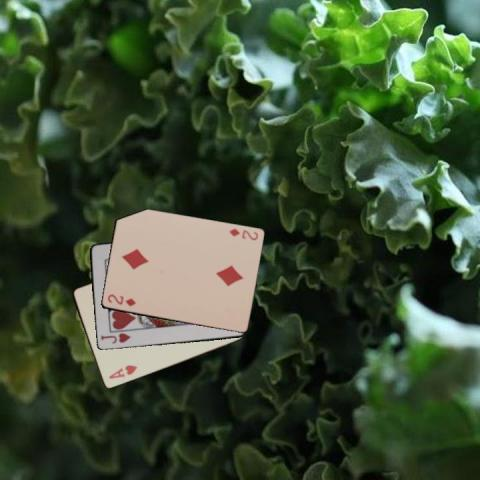2d: (104, 291, 136, 308), (226, 226, 259, 242)
Ah: (105, 362, 139, 380)
Jh: (97, 330, 132, 345)
